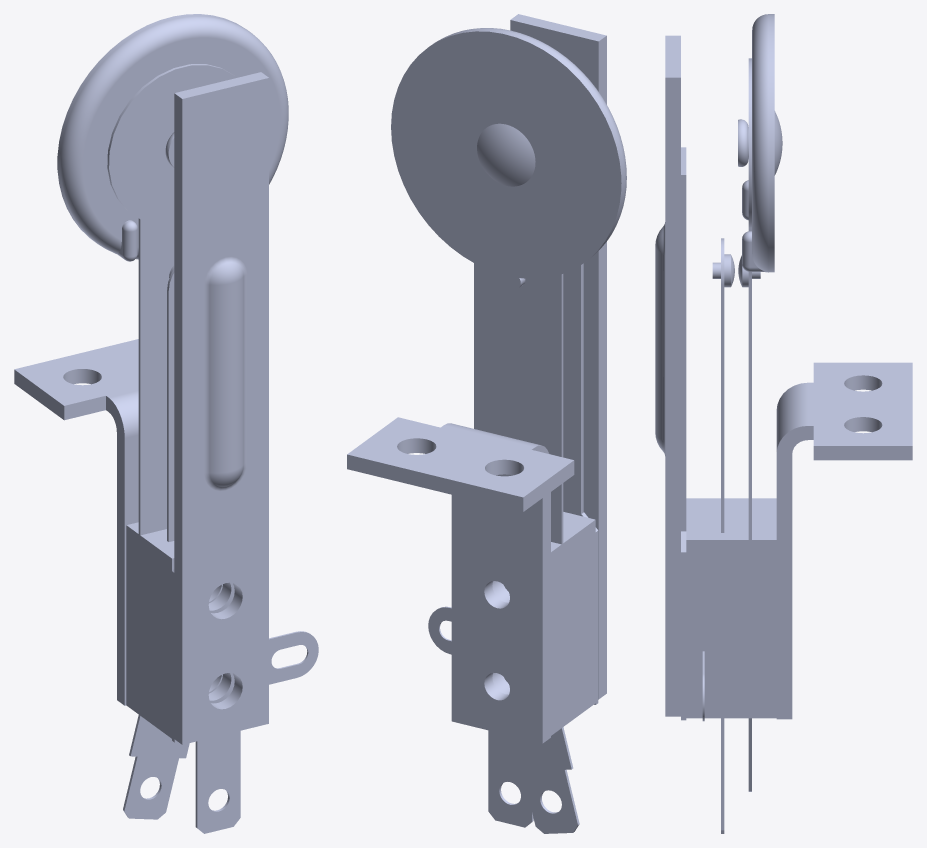
File: Target 004 Round.fbx
3 views of the same model, side by side, from view 1: azimuth 30°, elevation 25°; view 2: azimuth 150°, elevation 25°; view 3: azimuth 270°, elevation 25° (orthographic). The views are drawn at different scales.
Visible parts, largest first — view 1: Target Backing Bar 001, Target - Spring Steel Blade 002, Target - Plastic Face 001, Target Mtg Angle 002, Target - Spring Steel Blade 004, Target Spacer Plate .093 (×2), Target Spacer Plate .060 (×2), Swich Leaf D; view 2: Target - Plastic Face 001, Target Mtg Angle 002, Target - Spring Steel Blade 002, Target Backing Bar 001, switch fish paper 001, Target Spacer Plate .093 (×2), Target Spacer Plate .060 (×2), Target - Spring Steel Blade 004, rivet, Swich Leaf D; view 3: Target Mtg Angle 002, Target Backing Bar 001, Target Spacer Plate .093 (×2), Target Spacer Plate .060 (×2), Target - Plastic Face 001, switch fish paper 001, Target - Spring Steel Blade 002, Target - Spring Steel Blade 004, rivet, Swich Leaf D, Contact.
Boxes of the visible parts, bbox=[...] form: Target Backing Bar 001: bbox=[174, 72, 268, 744]; Target - Spring Steel Blade 002: bbox=[107, 64, 236, 819]; Target - Plastic Face 001: bbox=[57, 14, 288, 261]; Target Mtg Angle 002: bbox=[14, 339, 138, 705]; Target - Spring Steel Blade 004: bbox=[152, 269, 240, 833]; Target Spacer Plate .093 (×2): bbox=[126, 522, 166, 724]; Target Spacer Plate .060 (×2): bbox=[154, 541, 234, 738]; Swich Leaf D: bbox=[162, 549, 318, 732]; Target - Plastic Face 001: bbox=[391, 28, 626, 278]; Target Mtg Angle 002: bbox=[347, 417, 574, 743]; Target - Spring Steel Blade 002: bbox=[474, 263, 579, 833]; Target Backing Bar 001: bbox=[510, 14, 606, 699]; switch fish paper 001: bbox=[563, 263, 598, 704]; Target Spacer Plate .093 (×2): bbox=[492, 531, 575, 735]; Target Spacer Plate .060 (×2): bbox=[563, 512, 595, 715]; Target - Spring Steel Blade 004: bbox=[488, 529, 577, 827]; rivet: bbox=[477, 123, 535, 186]; Swich Leaf D: bbox=[428, 520, 587, 709]; Target Mtg Angle 002: bbox=[776, 362, 912, 719]; Target Backing Bar 001: bbox=[655, 35, 680, 716]; Target Spacer Plate .093 (×2): bbox=[724, 498, 776, 718]; Target Spacer Plate .060 (×2): bbox=[686, 498, 720, 718]; Target - Plastic Face 001: bbox=[742, 14, 774, 272]; switch fish paper 001: bbox=[681, 147, 686, 720]; Target - Spring Steel Blade 002: bbox=[748, 58, 751, 791]; Target - Spring Steel Blade 004: bbox=[721, 238, 724, 833]; rivet: bbox=[738, 111, 782, 175]; Swich Leaf D: bbox=[702, 498, 704, 721]; Contact: bbox=[712, 254, 734, 287].
Size of the model in its own units: 2.5 by 8.44 by 2.49.
